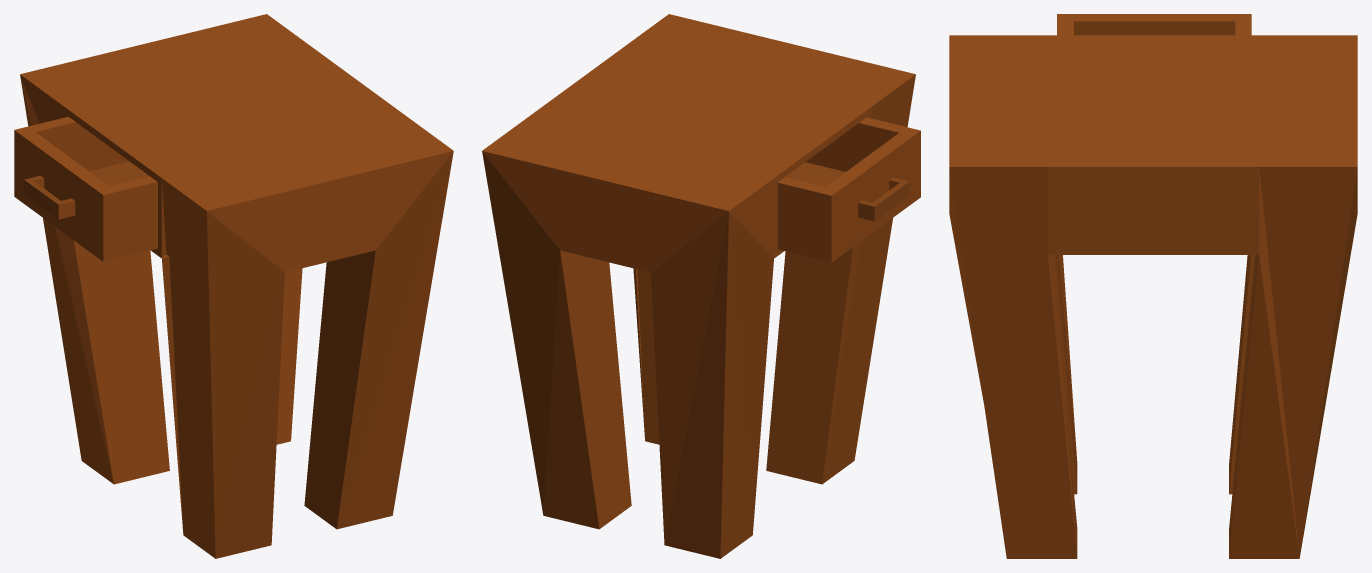
The model's file is SmallTable.dae.
3 views of the same model, side by side, from view 1: azimuth 30°, elevation 25°; view 2: azimuth 150°, elevation 25°; view 3: azimuth 270°, elevation 25° (orthographic). The views are drawn at different scales.
Parts seen in each view (by area): view 1: Group_1, Group_2 (×3); view 2: Group_1 (×2), Group_2 (×3); view 3: Group_1, Group_2.
Part boxes in pixels (x1=…): Group_1: x1=20, y1=14, x2=453, y2=558; Group_2 (×3): x1=14, y1=116, x2=157, y2=261; Group_1 (×2): x1=482, y1=14, x2=915, y2=558; Group_2 (×3): x1=777, y1=117, x2=920, y2=262; Group_1: x1=949, y1=35, x2=1357, y2=558; Group_2: x1=1057, y1=14, x2=1251, y2=35.
Size of the model in its own units: 39.07 by 39.81 by 44.15.
